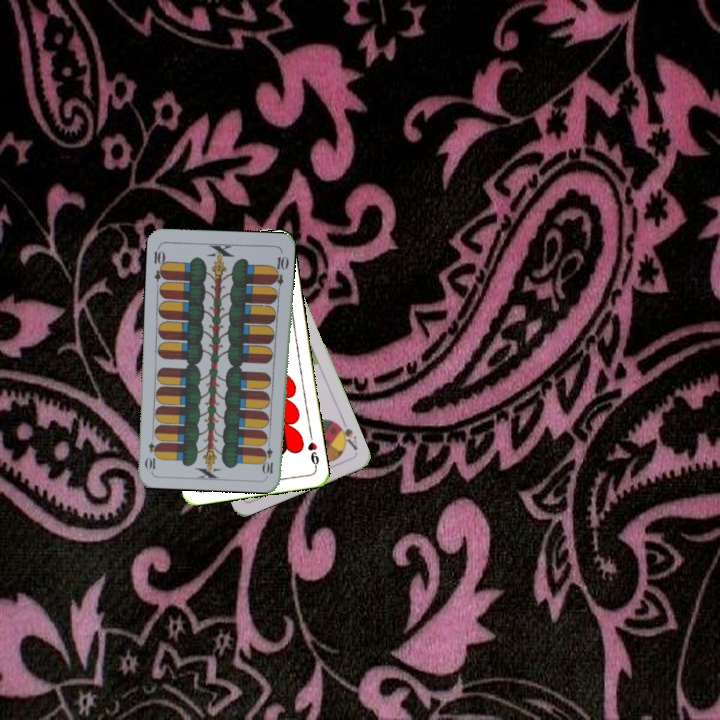E10: (150, 243, 169, 283), (261, 436, 276, 476)
H9: (304, 430, 322, 471)
SA: (332, 415, 360, 453)
